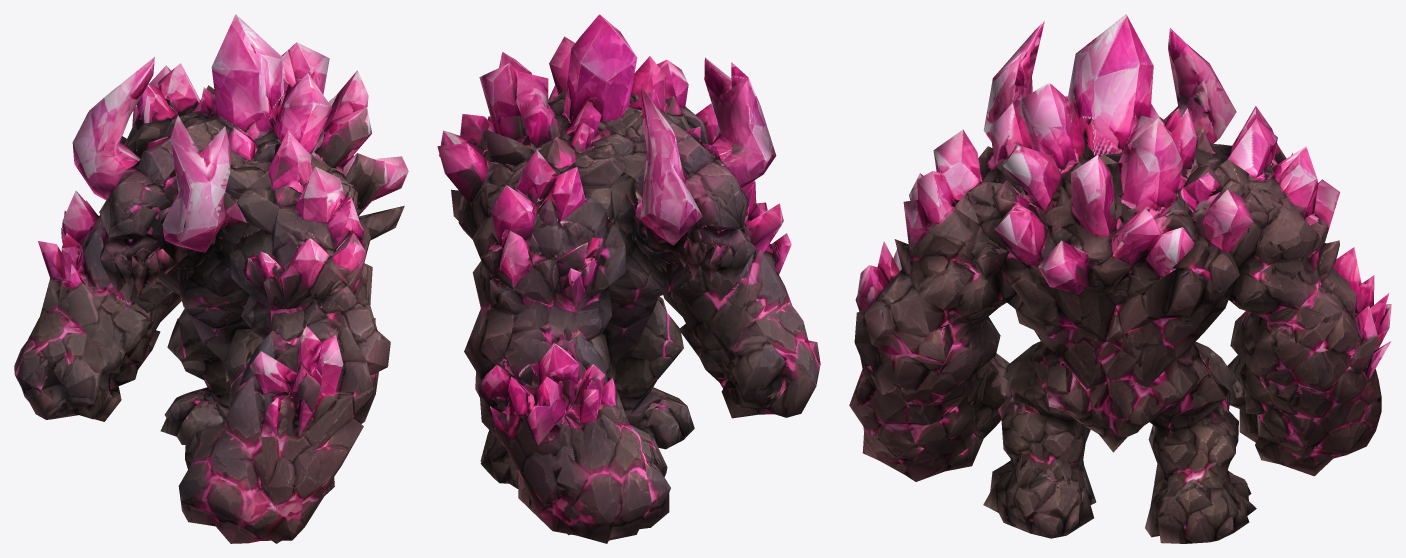
The model's file is dizes_brute.fbx.
3 renders of one model, left to right at view 1: azimuth 30°, elevation 25°; view 2: azimuth 150°, elevation 25°; view 3: azimuth 270°, elevation 25°, orthographic. The views are drawn at different scales.
Parts seen in each view (by area): view 1: dizes_brute; view 2: dizes_brute; view 3: dizes_brute.
Part boxes in pixels (x1,y1,x2,y2): dizes_brute: (14,14,408,543); dizes_brute: (437,14,820,543); dizes_brute: (849,14,1391,543).
Size of the model in its own units: 0.8041 by 1.2 by 1.2.
Materials: 1 (1 with a texture image).
